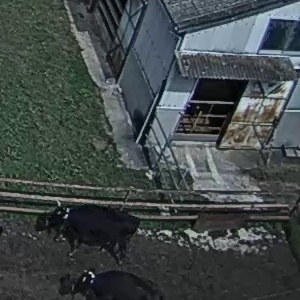cow: (35, 190, 149, 260), (56, 265, 158, 300)
